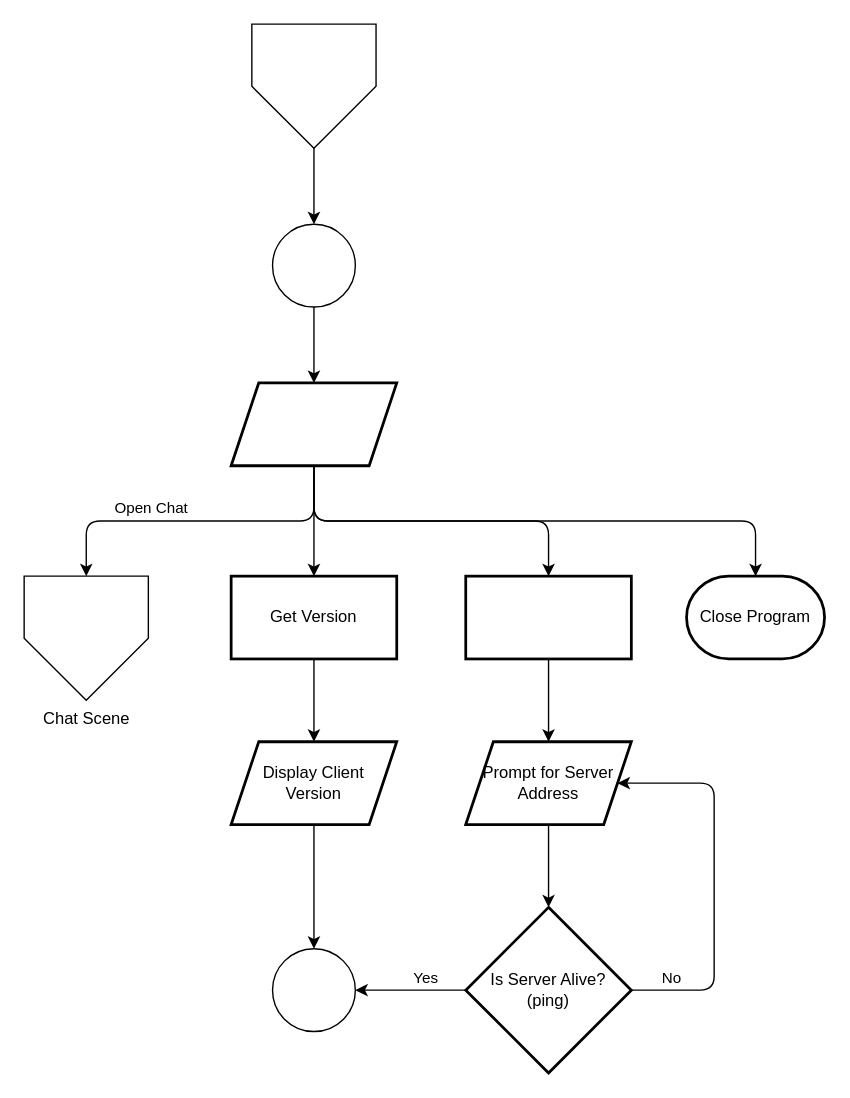
Image size: 850x1098. Some labels were removed from this diagram. Here are the shapes that lost their labels. From the top down, the centre of each, then its label:
At pixel 313 85: "Home Scene".
At pixel 313 423: "Command Input".
At pixel 548 617: "Change Server".
